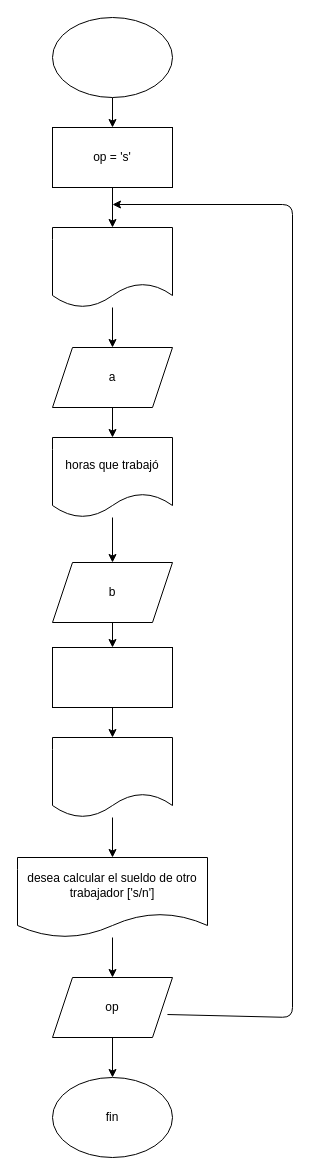
The diagram is 318 pixels wide and 1175 high, and some of its shapes have lost their labels. Here are the shapes that lost their labels. From the top down, the centre of each, then its label:
At point (112, 57): "inicio".
At point (112, 267): "sueldo por hora".
At point (112, 677): "c = a * b".
At point (112, 777): "su sueldo es de + c".
